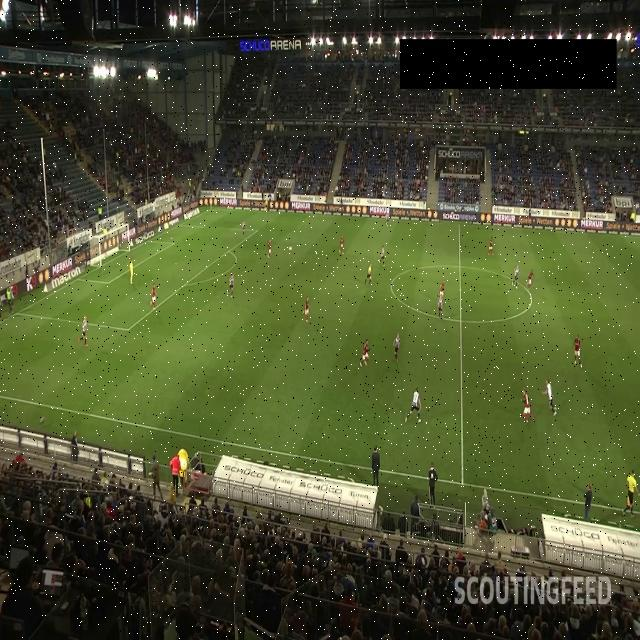Ball: (289, 246, 292, 251)
GoalKeeper: (129, 259, 134, 284)
Referee: (622, 468, 640, 518), (364, 263, 372, 285), (264, 198, 268, 212)
TEAM 1: (520, 388, 536, 426), (360, 339, 370, 368), (574, 334, 582, 368), (302, 295, 310, 324), (526, 269, 534, 292), (150, 284, 157, 310), (488, 237, 495, 256), (338, 234, 344, 255), (438, 281, 444, 302), (267, 239, 272, 258)
TEAM 2: (541, 378, 558, 418), (405, 386, 422, 424), (78, 315, 88, 347), (512, 264, 521, 289), (393, 333, 400, 362), (228, 274, 234, 298), (379, 246, 385, 267), (438, 297, 443, 318), (386, 210, 389, 227), (242, 220, 245, 234)
